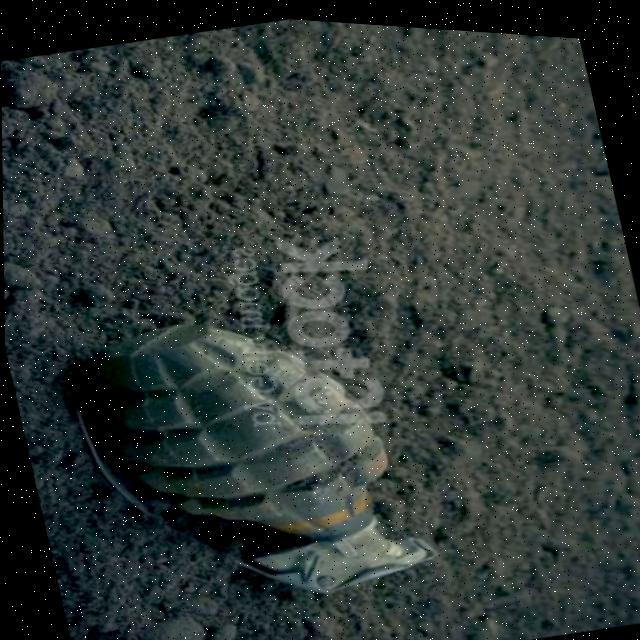grenade: (34, 250, 474, 640)
